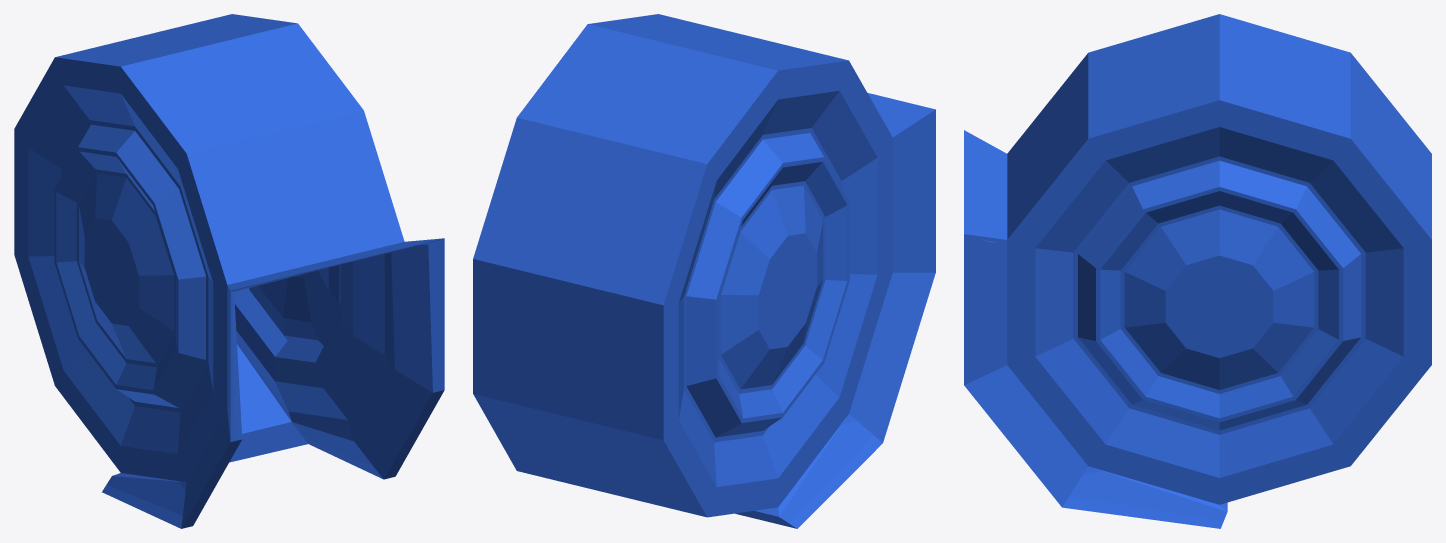
File: Obstacle Snail.fbx
3 renders of one model, left to right at view 1: azimuth 30°, elevation 25°; view 2: azimuth 150°, elevation 25°; view 3: azimuth 270°, elevation 25°, orthographic. The views are drawn at different scales.
Parts seen in each view (by area): view 1: B Snail(Bevel); view 2: B Snail(Bevel); view 3: B Snail(Bevel).
Boxes of the visible parts, x1,y1,x2,y2 form: B Snail(Bevel): [14, 14, 444, 528]; B Snail(Bevel): [473, 14, 935, 528]; B Snail(Bevel): [964, 14, 1431, 528].
Bounding box in the file's own units: 110 × 207 × 210.
